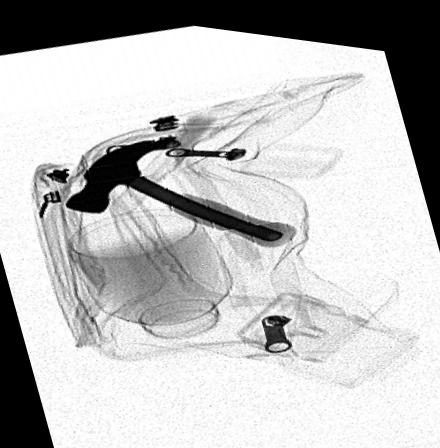Hammer: (62, 131, 297, 239)
